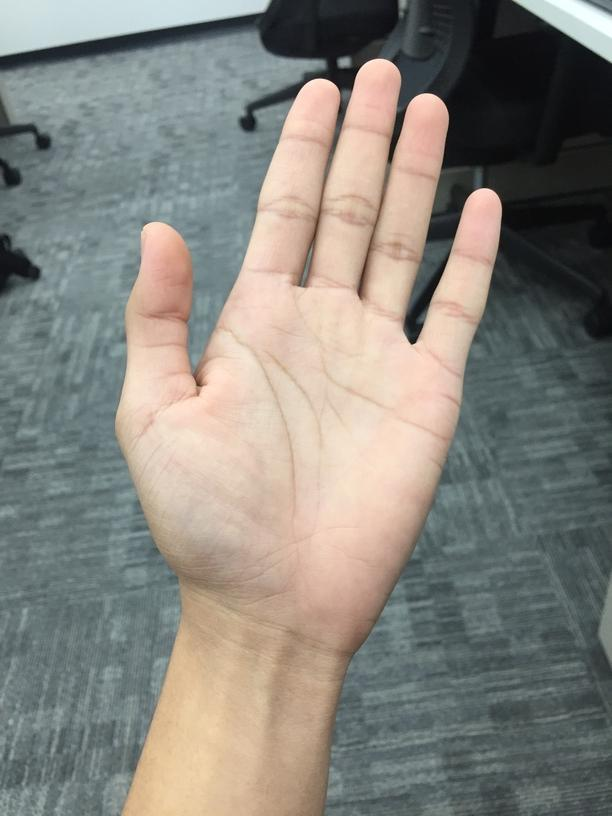hand: (112, 57, 502, 648)
